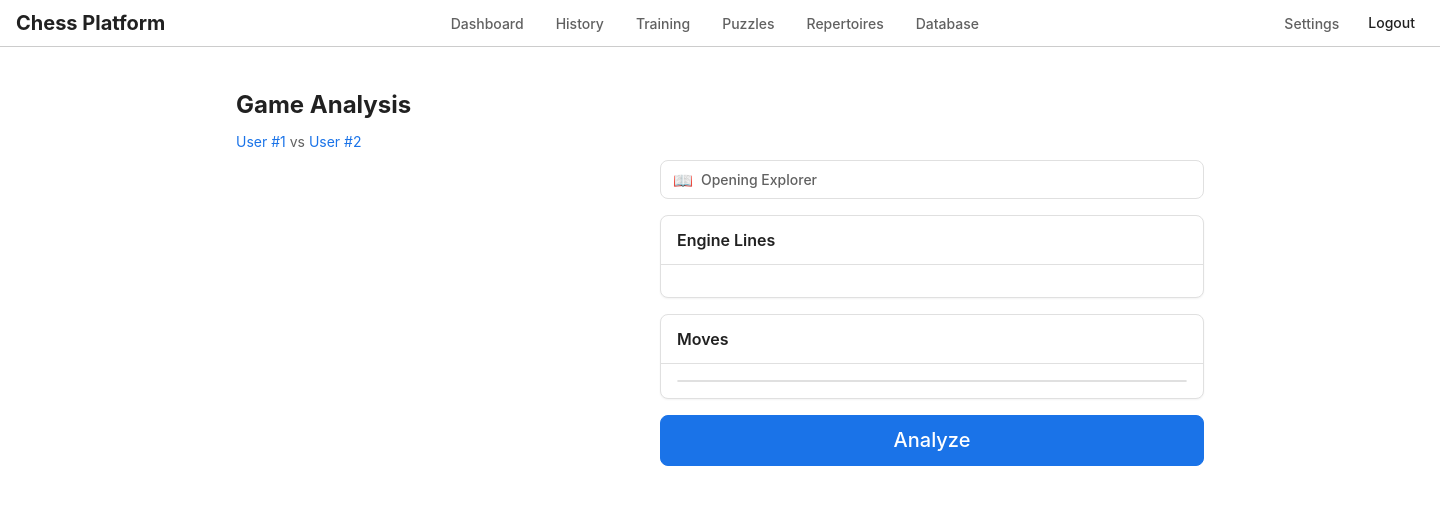
AnalysisPage › shows a clear message when the engine is unavailable
The image size is (1440, 518).
Click the button with test id "analyze-button" at (932, 440), box [660,415,1204,466]
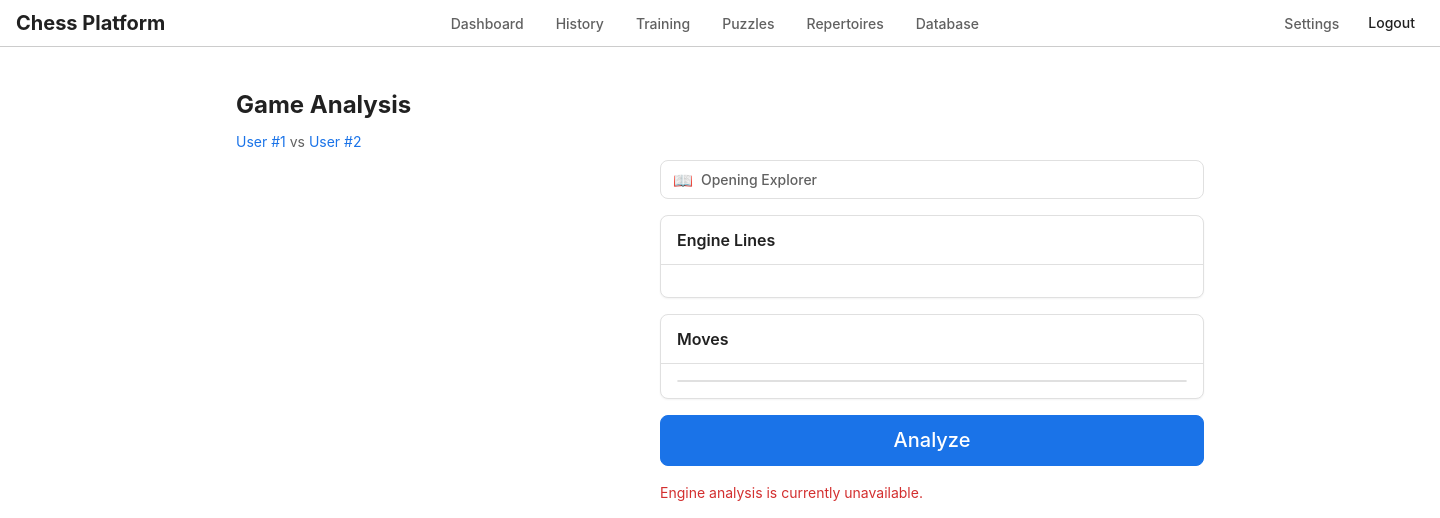
Now the text with test id "analysis-error-message" reads "Engine analysis is currently unavailable.", box [660,484,923,501]
